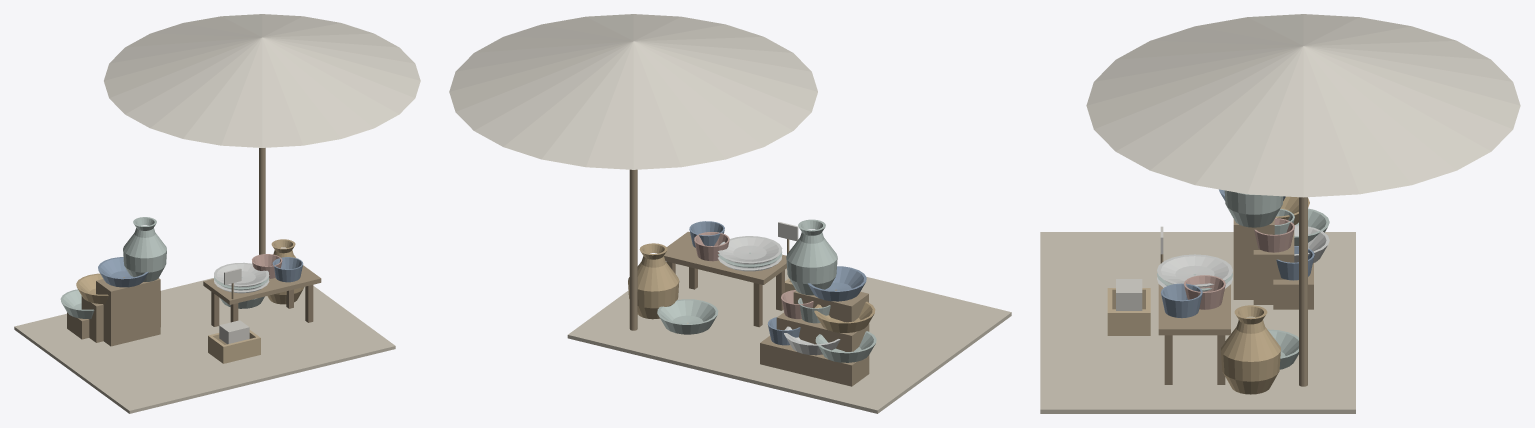
The model's file is stall-pottery.glb.
3 renders of one model, left to right at view 1: azimuth 30°, elevation 25°; view 2: azimuth 150°, elevation 25°; view 3: azimuth 270°, elevation 25°, orthographic. The views are drawn at different scales.
Parts seen in each view (by area): view 1: part_11, part_08, part_02, part_03, part_00, part_04, part_07, part_10, part_01, part_09, part_06; view 2: part_11, part_08, part_02, part_03, part_04, part_00, part_10, part_06, part_01; view 3: part_11, part_08, part_02, part_04, part_03, part_10, part_06, part_00, part_07, part_09, part_01.
Boxes of the visible parts, bbox=[...] form: part_11: bbox=[104, 14, 420, 147]; part_08: bbox=[14, 278, 395, 413]; part_02: bbox=[67, 148, 321, 346]; part_03: bbox=[60, 217, 269, 318]; part_00: bbox=[98, 257, 303, 287]; part_04: bbox=[76, 239, 304, 304]; part_07: bbox=[208, 330, 260, 363]; part_10: bbox=[214, 262, 269, 293]; part_01: bbox=[211, 285, 313, 326]; part_09: bbox=[219, 320, 249, 344]; part_06: bbox=[252, 254, 282, 278]; part_11: bbox=[449, 14, 817, 169]; part_08: bbox=[567, 264, 1011, 413]; part_02: bbox=[629, 169, 869, 386]; part_03: bbox=[657, 219, 876, 362]; part_04: bbox=[628, 243, 875, 332]; part_00: bbox=[689, 221, 866, 345]; part_10: bbox=[718, 236, 840, 355]; part_06: bbox=[694, 232, 813, 319]; part_01: bbox=[666, 261, 784, 327]; part_11: bbox=[1086, 14, 1520, 197]; part_08: bbox=[1040, 232, 1355, 413]; part_02: bbox=[1158, 197, 1313, 386]; part_04: bbox=[1221, 196, 1309, 394]; part_03: bbox=[1157, 190, 1329, 369]; part_10: bbox=[1157, 225, 1329, 288]; part_06: bbox=[1184, 218, 1294, 309]; part_00: bbox=[1161, 189, 1314, 318]; part_07: bbox=[1107, 288, 1150, 335]; part_09: bbox=[1116, 279, 1142, 310]; part_01: bbox=[1164, 335, 1225, 384].
Bounding box in the file's own units: 8.8 × 5.75 × 7.3.
